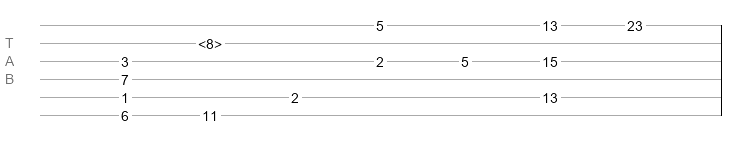1: (121, 90, 129, 100)
11: (202, 108, 218, 118)
13: (542, 90, 558, 100), (542, 18, 558, 28)
15: (542, 54, 558, 64)
2: (291, 90, 299, 100), (376, 54, 384, 64)
23: (627, 18, 643, 28)
3: (121, 54, 129, 64)
5: (376, 18, 384, 28), (461, 54, 469, 64)
6: (121, 108, 129, 118)
7: (121, 72, 129, 82)
harmonic: (198, 36, 222, 46)
